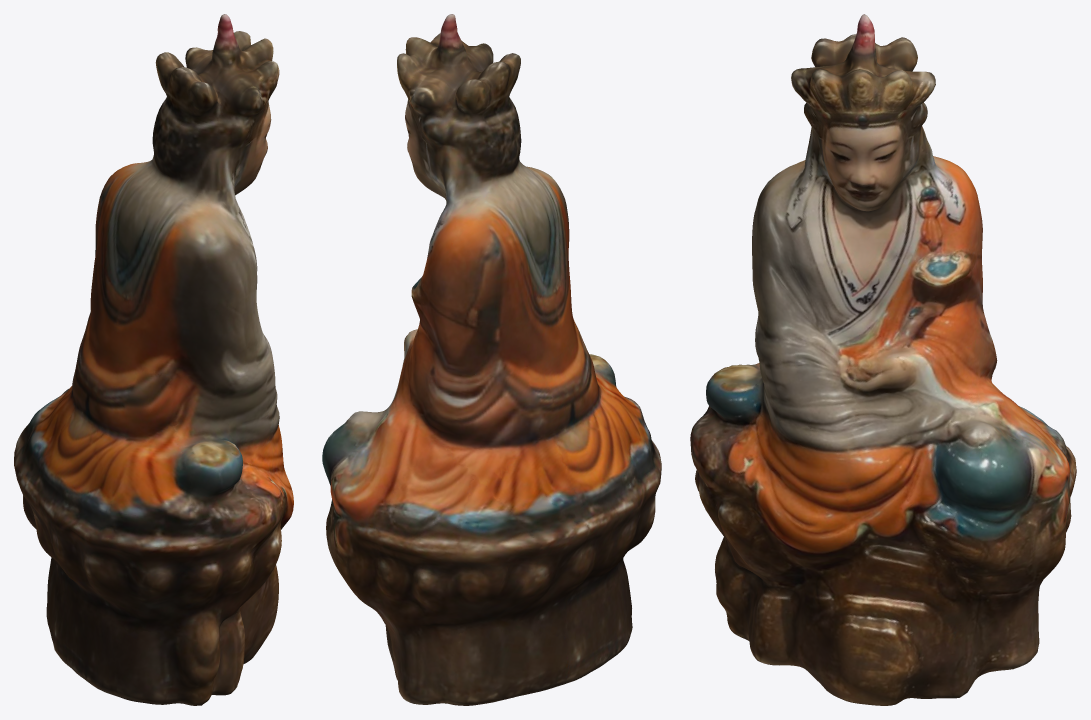
Rendered from wuyupusa.fbx.
The picture shows the model from 3 angles, left to right: view 1: azimuth 30°, elevation 25°; view 2: azimuth 150°, elevation 25°; view 3: azimuth 270°, elevation 25°; orthographic projection. The views are drawn at different scales.
Visible parts, largest first — view 1: tripo_21ba61a4-3911-4902-b798-92c740409a65; view 2: tripo_21ba61a4-3911-4902-b798-92c740409a65; view 3: tripo_21ba61a4-3911-4902-b798-92c740409a65.
Part boxes in pixels (x1,y1,x2,y2): tripo_21ba61a4-3911-4902-b798-92c740409a65: (14, 14, 293, 705); tripo_21ba61a4-3911-4902-b798-92c740409a65: (322, 14, 661, 705); tripo_21ba61a4-3911-4902-b798-92c740409a65: (690, 14, 1076, 705).
Bounding box in the file's own units: 38.08 × 94.78 × 48.78.
Materials: 1 (1 with a texture image).
